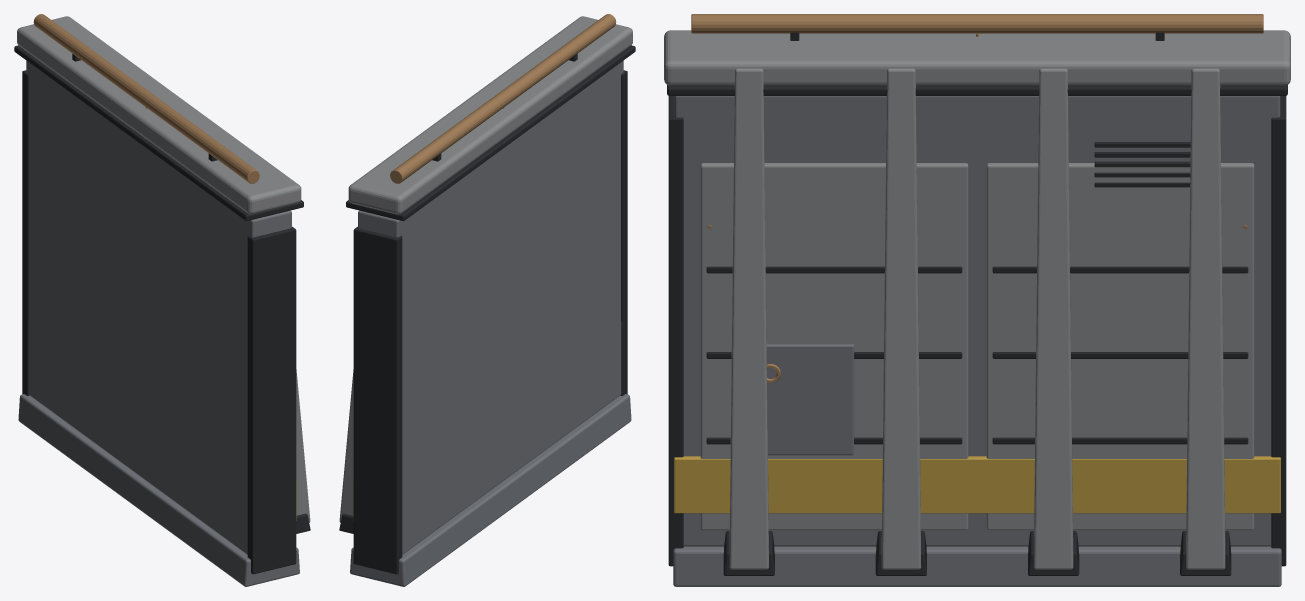
File: sm_wall_segment.fbx
The picture shows the model from 3 angles, left to right: view 1: azimuth 30°, elevation 25°; view 2: azimuth 150°, elevation 25°; view 3: azimuth 270°, elevation 25°; orthographic projection. The views are drawn at different scales.
Visible parts, largest first — view 1: SM_Wall_Segment; view 2: SM_Wall_Segment; view 3: SM_Wall_Segment.
Part boxes in pixels (x1,y1,x2,y2): SM_Wall_Segment: (14, 14, 310, 586); SM_Wall_Segment: (339, 14, 635, 586); SM_Wall_Segment: (664, 14, 1290, 586).
Bounding box in the file's own units: 89.85 × 396 × 412.
